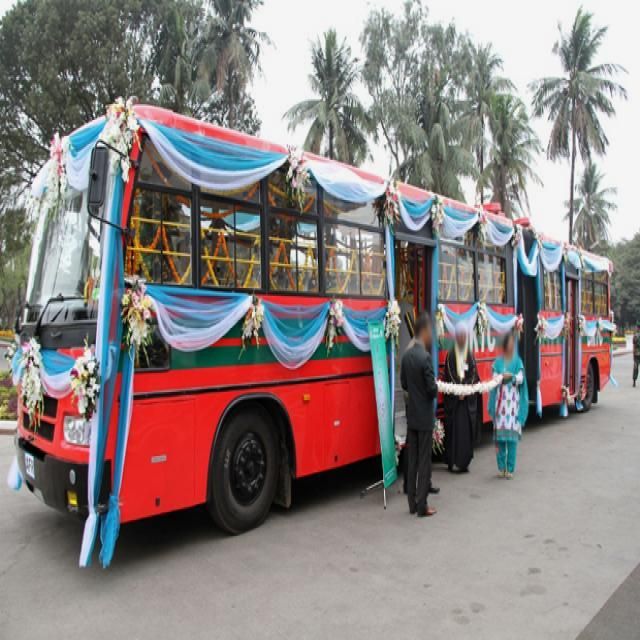bus: (15, 103, 614, 537)
